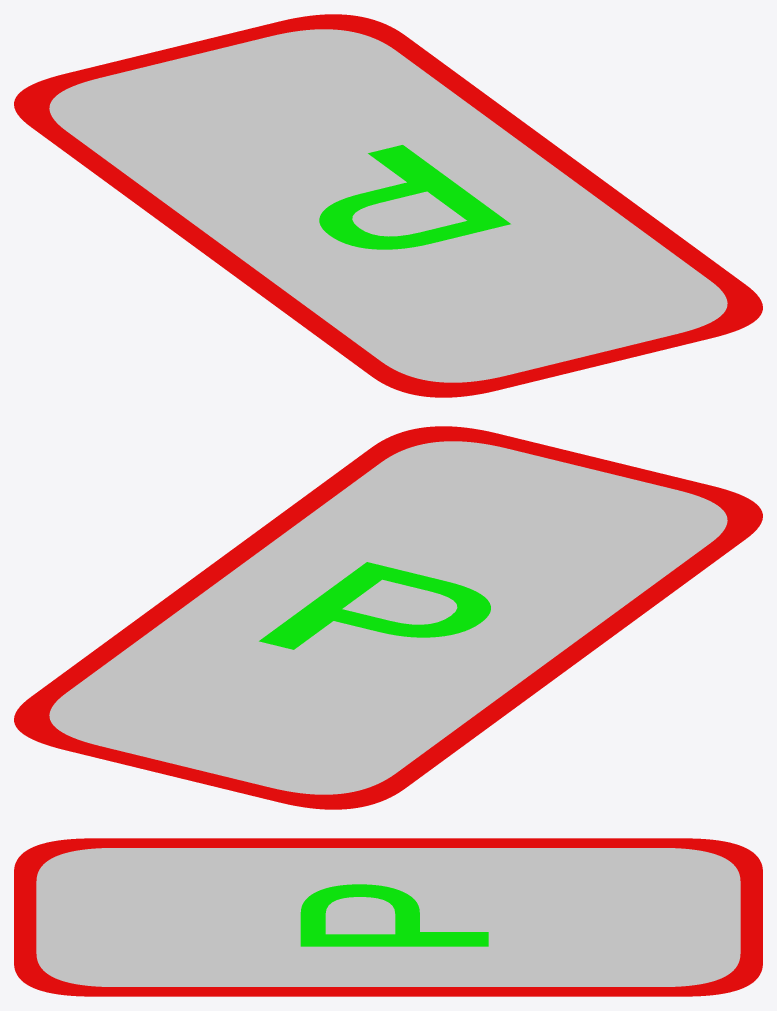
Rendered from ParkBase.fbx.
The picture shows the model from 3 angles, top to bottom: view 1: azimuth 30°, elevation 25°; view 2: azimuth 150°, elevation 25°; view 3: azimuth 270°, elevation 25°; orthographic projection. The views are drawn at different scales.
Parts seen in each view (by area): view 1: ParkBase; view 2: ParkBase; view 3: ParkBase.
Boxes of the visible parts, x1,y1,x2,y2 form: ParkBase: (14, 14, 762, 397); ParkBase: (14, 426, 762, 809); ParkBase: (14, 838, 762, 996).
Bounding box in the file's own units: 100 × 0.3435 × 200.
